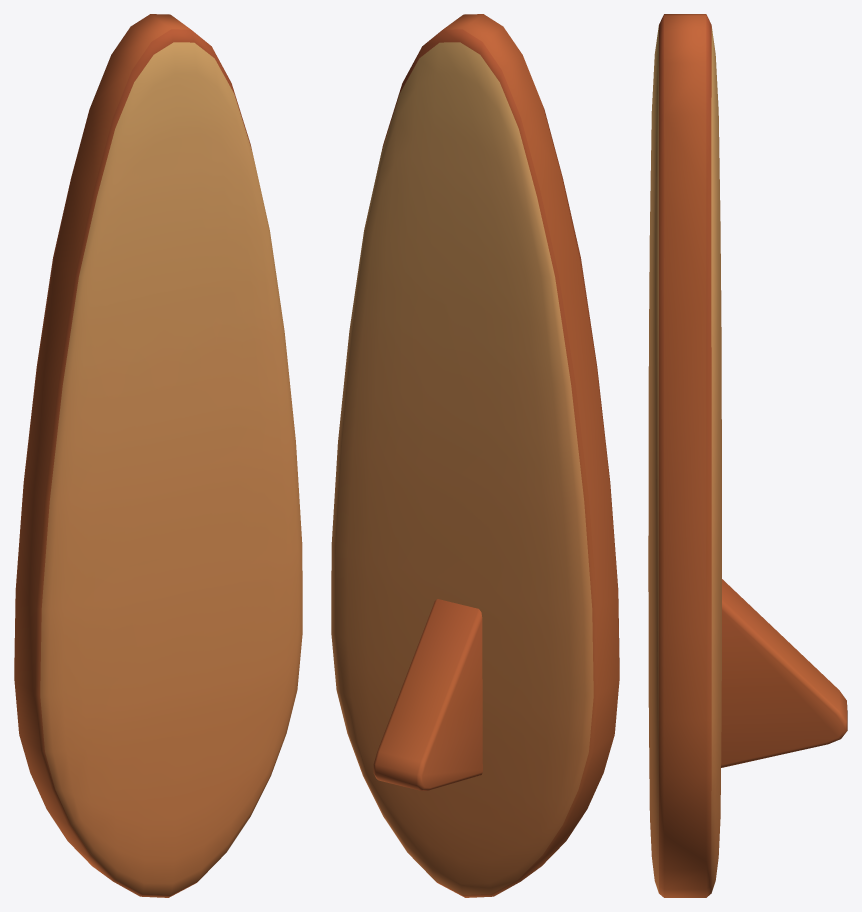
The model's file is surfboard-02.glb.
3 renders of one model, left to right at view 1: azimuth 30°, elevation 25°; view 2: azimuth 150°, elevation 25°; view 3: azimuth 270°, elevation 25°, orthographic.
Parts seen in each view (by area): view 1: surfboard_02; view 2: surfboard_02; view 3: surfboard_02.
Boxes of the visible parts, left/top/right/bottom form: surfboard_02: left=14, top=14, right=302, bottom=897; surfboard_02: left=331, top=14, right=619, bottom=897; surfboard_02: left=648, top=14, right=847, bottom=897.
Size of the model in its own units: 0.7617 by 2.36 by 0.4855.
Materials: 1 (1 with a texture image).
